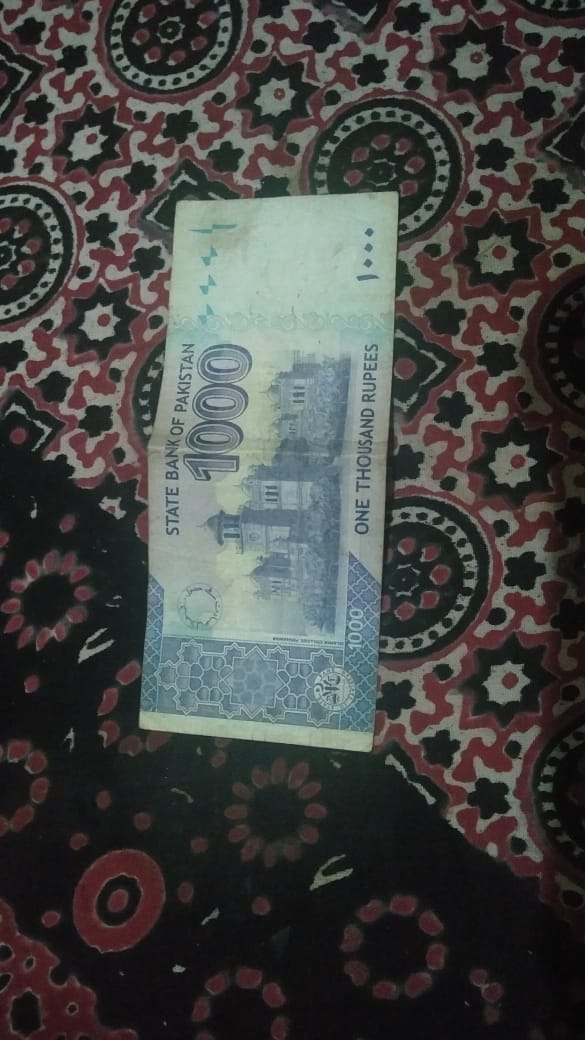1000 rupee: (122, 199, 408, 766)
